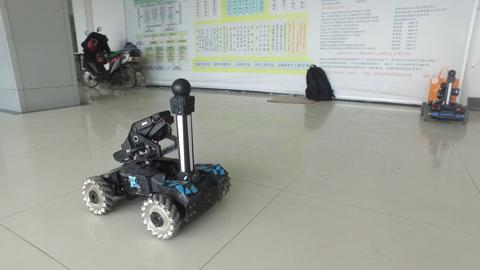bag: (296, 59, 348, 108)
chariot: (75, 78, 241, 240), (422, 70, 472, 132)
